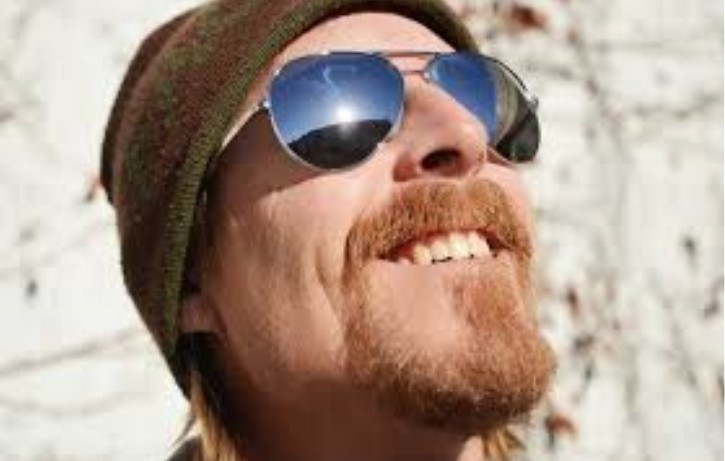face_no_mask: (155, 6, 569, 442)
